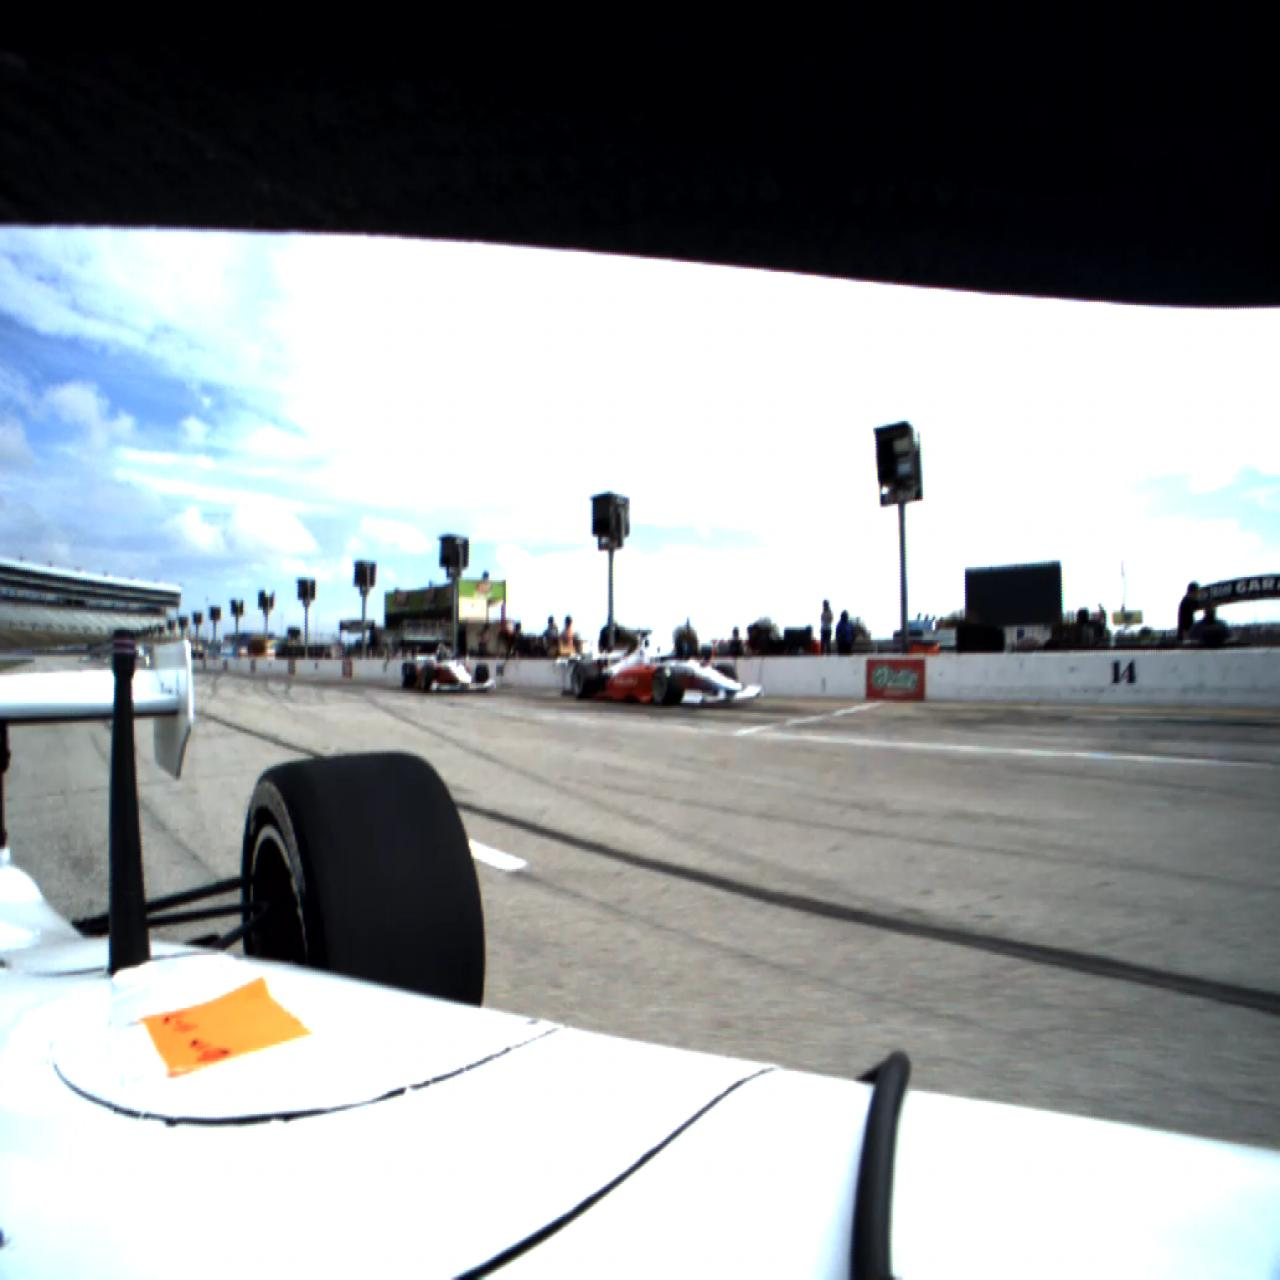AV: (570, 632, 764, 707), (402, 645, 497, 694)
Wheel: (243, 751, 485, 1008), (571, 662, 601, 700), (652, 667, 681, 706), (402, 662, 417, 689), (475, 663, 489, 692), (423, 666, 434, 689)
